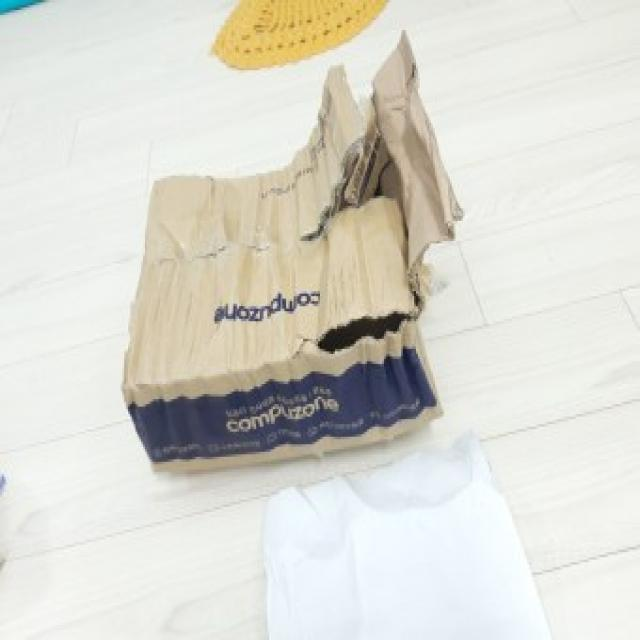hole: (320, 300, 414, 354)
